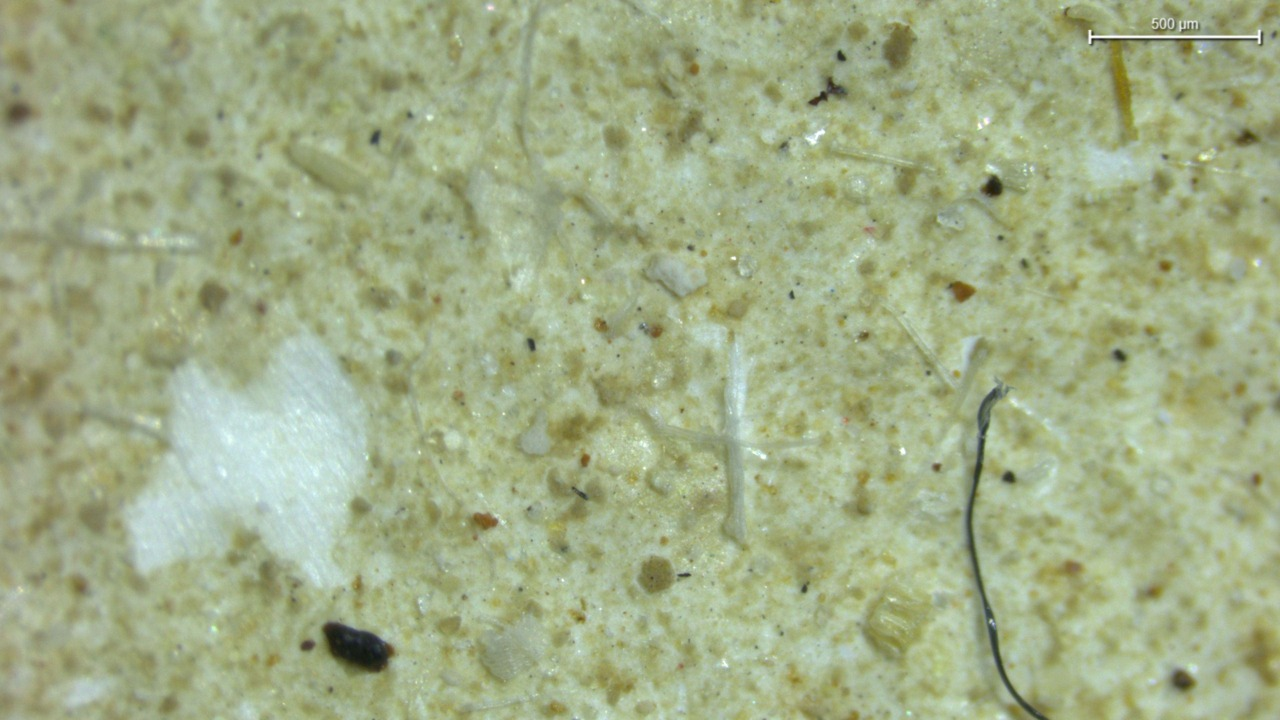microplastic_fragment: (863, 577, 934, 659), (477, 617, 543, 681), (644, 255, 707, 297), (519, 408, 551, 455)
